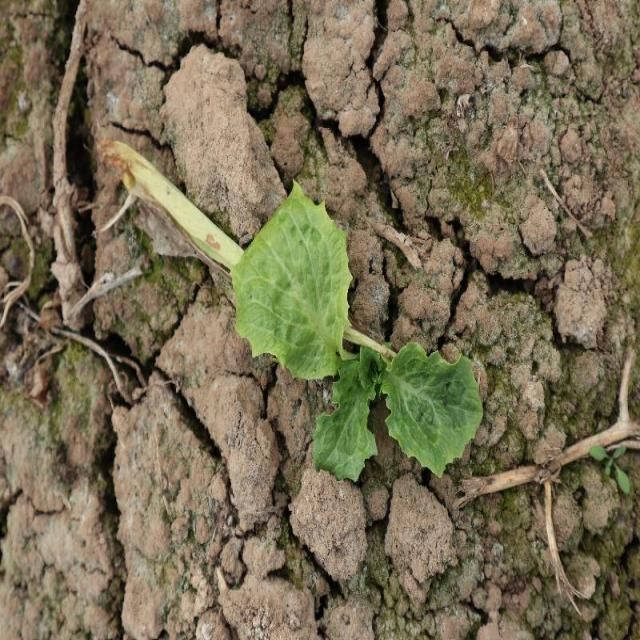crop: (230, 180, 483, 482)
